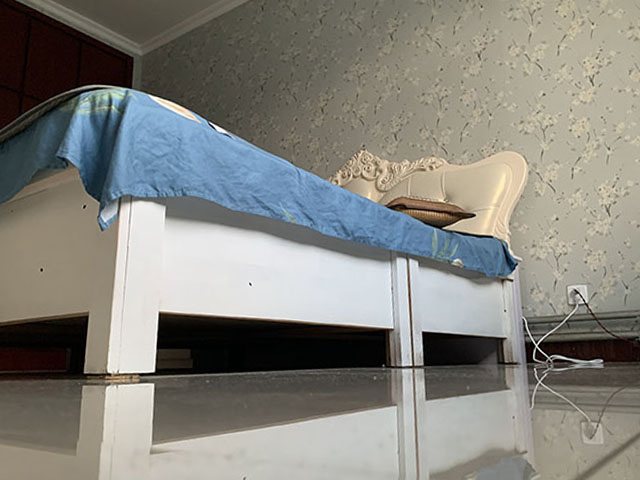bed: (1, 82, 531, 379)
wire: (522, 282, 605, 370)
